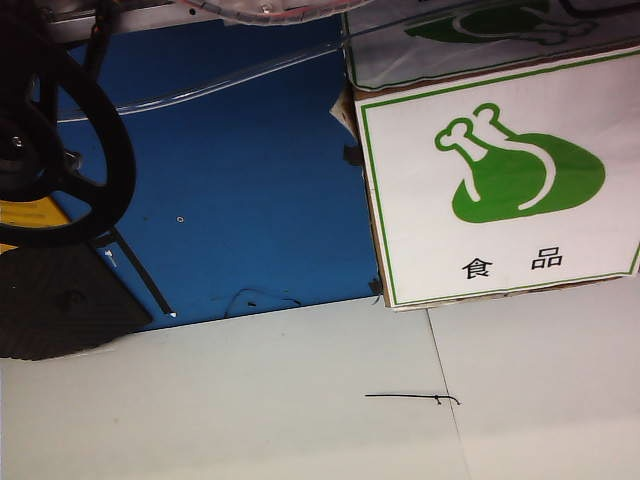Cube_food: (425, 96, 614, 281)
